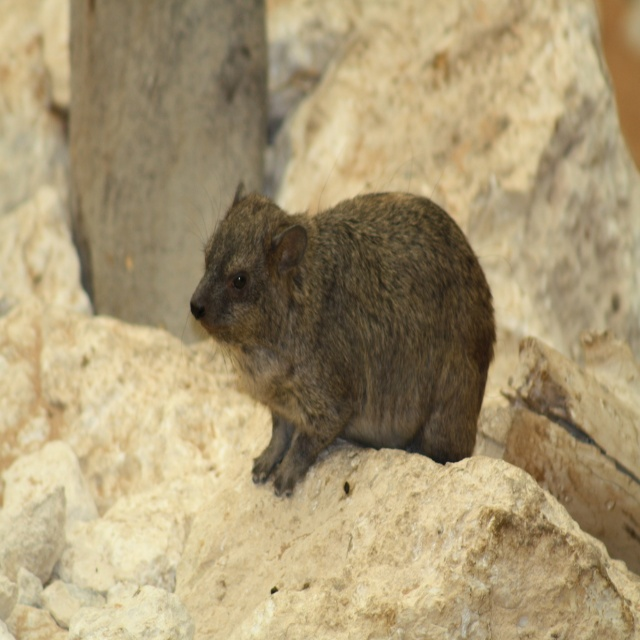Mouse: (177, 164, 509, 478)
